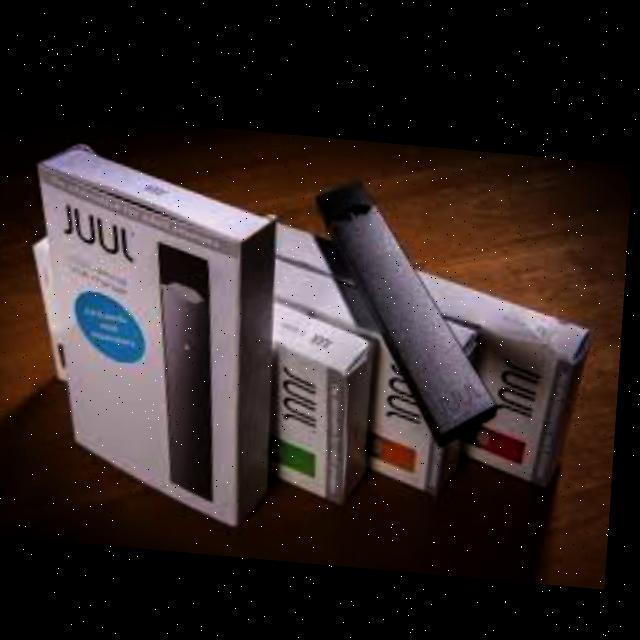vape: (304, 165, 512, 432), (144, 235, 235, 500)
